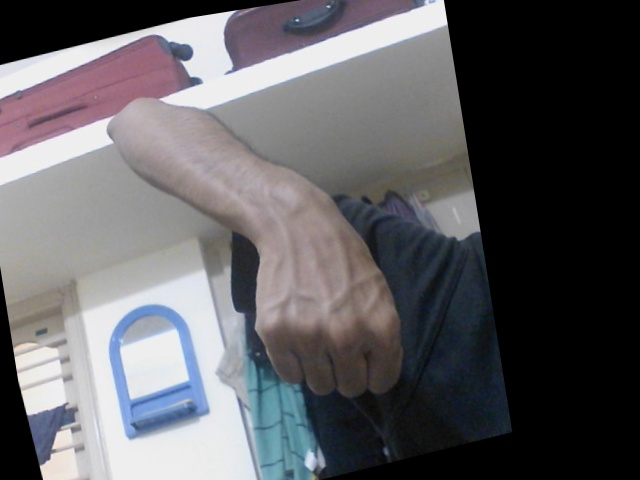hand: (249, 211, 406, 399)
